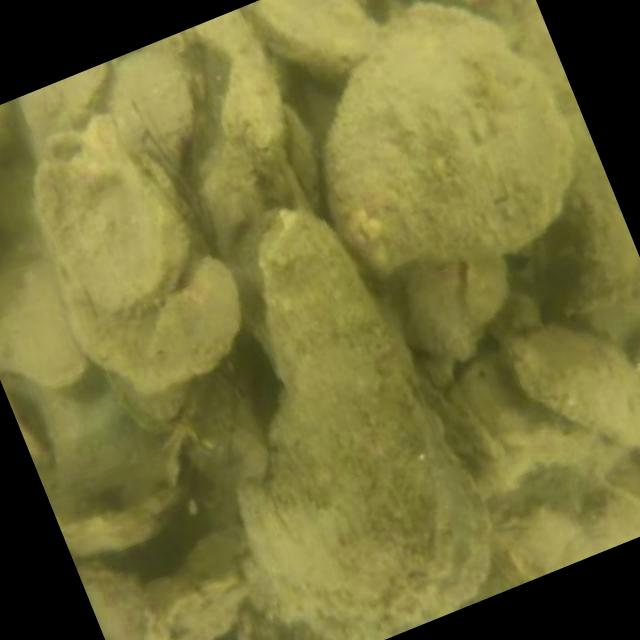Oyster-Closed: (240, 222, 490, 640), (319, 7, 574, 274), (503, 0, 640, 300), (35, 128, 192, 318), (63, 259, 236, 392), (504, 326, 640, 447), (0, 243, 84, 390), (377, 266, 477, 363), (246, 0, 375, 75), (79, 567, 142, 640)
